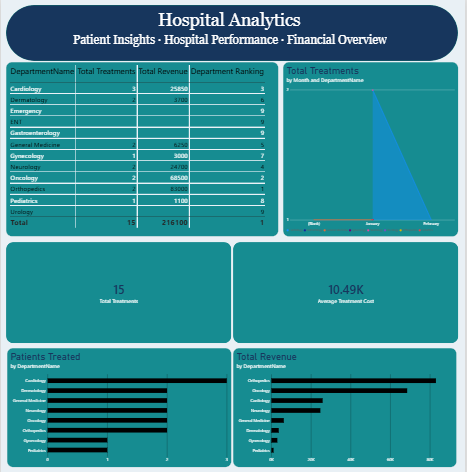

This screenshot's page, from the dashboard's own definition file:
{"tool":"powerbi","page":{"name":"Department Analysis","canvas":[2320,2380],"ordinal":4},"visuals":[{"type":"shape","box":[26.7,23.3,2260,280],"z":0},{"type":"textbox","box":[786.7,50,736.7,113.3],"z":1},{"type":"textbox","box":[360,163.3,1580,83.3],"z":2},{"type":"clusteredBarChart","fields":{"Category":["Departments.DepartmentName"],"Y":["Medical Transactions.Patients Treated"]},"box":[27.8,1740,1122,596],"z":3},{"type":"clusteredBarChart","fields":{"Category":["Departments.DepartmentName"],"Y":["Medical Transactions.Total Revenue"]},"box":[1160,1740,1118,596],"z":4},{"type":"cardVisual","fields":{"Data":["Medical Transactions.Total Treatments","Medical Transactions.Average Treatment Cost"]},"box":[26,1208,2262,506],"z":5},{"type":"lineChart","fields":{"Category":["Medical Transactions.AdmissionDate.Variation.Date Hierarchy.Month"],"Series":["Departments.DepartmentName"],"Y":["Medical Transactions.Total Treatments"]},"box":[1412.1,312.1,875.8,872.7],"z":6},{"type":"tableEx","fields":{"Values":["Departments.DepartmentName","Medical Transactions.Total Treatments","Medical Transactions.Total Revenue","Medical Transactions.Department Ranking"]},"box":[26,312,1362,872],"z":7}]}

Visuals, with their boxes in screenshot pixels (x1, y1, x2, y2), scaled from the page's 2320x2380 canvas onto the 467x472 screenshot:
shape: rect(5, 5, 460, 60)
textbox: rect(158, 10, 307, 32)
textbox: rect(72, 32, 391, 49)
clusteredBarChart - Departments.DepartmentName x Medical Transactions.Patients Treated: rect(6, 345, 231, 463)
clusteredBarChart - Departments.DepartmentName x Medical Transactions.Total Revenue: rect(234, 345, 459, 463)
cardVisual - Medical Transactions.Total Treatments x Medical Transactions.Average Treatment Cost: rect(5, 240, 461, 340)
lineChart - Medical Transactions.AdmissionDate.Variation.Date Hierarchy.Month x Departments.DepartmentName: rect(284, 62, 461, 235)
tableEx - Departments.DepartmentName x Medical Transactions.Total Treatments: rect(5, 62, 279, 235)
